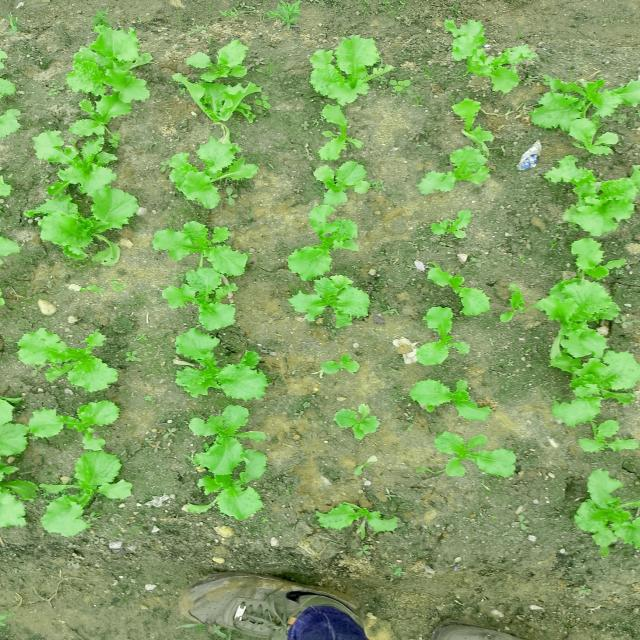Lettuce: (16, 164, 125, 257), (153, 121, 263, 213), (295, 28, 406, 117), (61, 28, 151, 124), (150, 327, 278, 394), (178, 34, 267, 124), (521, 262, 620, 336), (545, 159, 640, 235), (420, 130, 511, 208), (27, 328, 124, 398), (542, 75, 640, 143), (432, 18, 532, 84), (426, 430, 528, 492), (282, 267, 376, 333), (291, 492, 392, 552), (150, 266, 246, 322), (399, 374, 502, 426), (189, 402, 263, 474), (576, 471, 640, 554), (422, 262, 502, 326), (560, 347, 640, 407), (64, 449, 138, 511), (300, 208, 360, 280), (0, 380, 47, 467), (159, 224, 255, 266), (59, 399, 126, 452), (308, 157, 374, 209), (0, 40, 28, 139), (0, 451, 30, 536), (332, 400, 385, 444), (0, 161, 20, 268), (451, 97, 489, 133)
